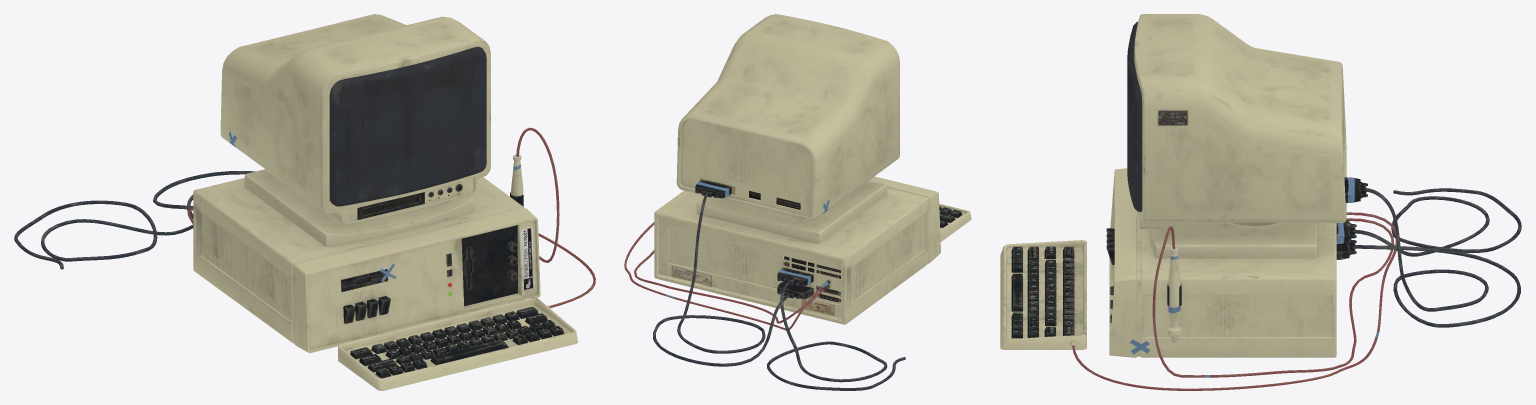
The model's file is terminal.glb.
3 views of the same model, side by side, from view 1: azimuth 30°, elevation 25°; view 2: azimuth 150°, elevation 25°; view 3: azimuth 270°, elevation 25° (orthographic). The views are drawn at different scales.
Visible parts, largest first — view 1: pack_1_low.001_M_electronick.002_0; view 2: pack_1_low.001_M_electronick.002_0; view 3: pack_1_low.001_M_electronick.002_0.
Boxes of the visible parts, x1,y1,x2,y2 form: pack_1_low.001_M_electronick.002_0: [14, 14, 595, 390]; pack_1_low.001_M_electronick.002_0: [624, 14, 971, 390]; pack_1_low.001_M_electronick.002_0: [1000, 14, 1521, 390].
Size of the model in its own units: 0.8847 by 0.5372 by 0.9871.
Materials: 1 (1 with a texture image).
